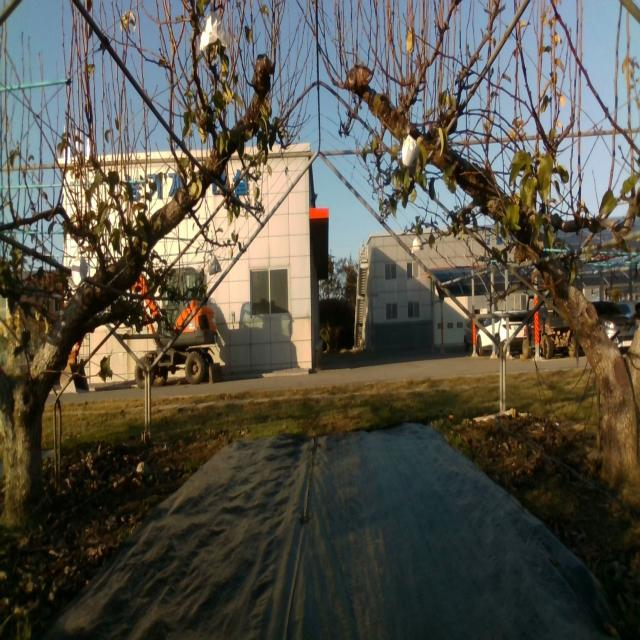pearbags: (200, 12, 228, 51), (402, 135, 418, 174), (71, 248, 87, 286), (208, 252, 222, 276), (411, 233, 424, 256)
